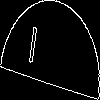I: (25, 25, 39, 74)
